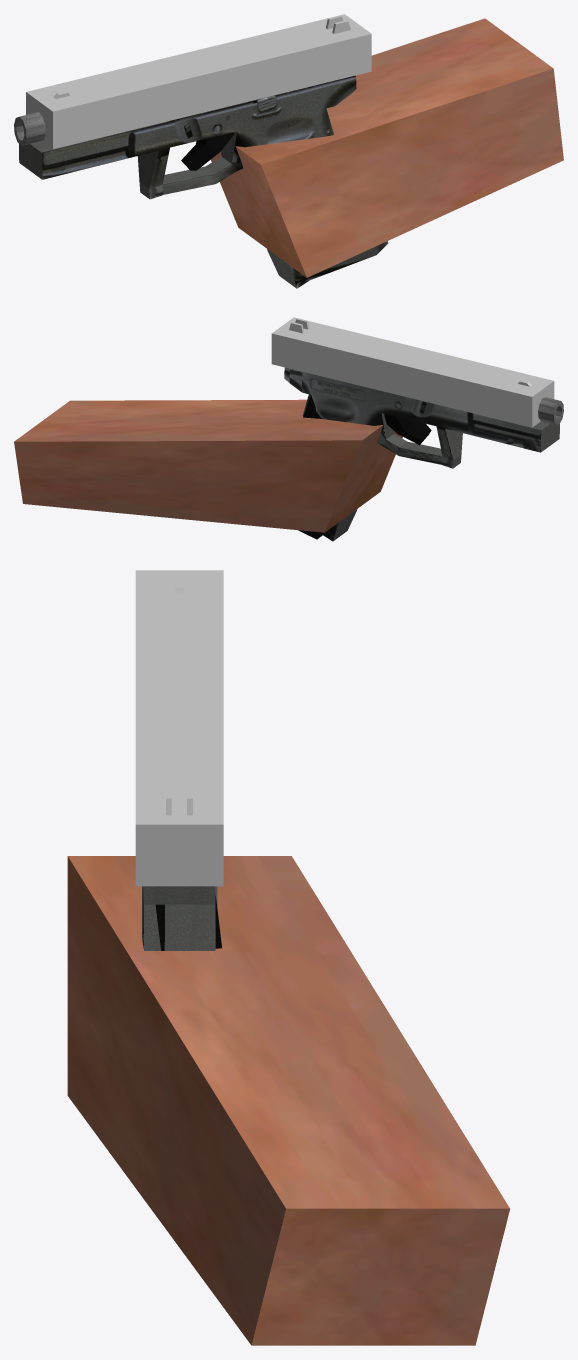
File: pistol_000039.obj
3 renders of one model, top to bottom at view 1: azimuth 30°, elevation 25°; view 2: azimuth 150°, elevation 25°; view 3: azimuth 270°, elevation 25°, orthographic. The views are drawn at different scales.
Visible parts, largest first — view 1: Cube, Cube.001, Cube.003; view 2: Cube, Cube.001, Cube.003, Cube.002; view 3: Cube, Cube.001.
Boxes of the visible parts, x1=… form: Cube: x1=14, y1=18, x2=563, y2=288; Cube.001: x1=26, y1=14, x2=371, y2=149; Cube.003: x1=181, y1=132, x2=233, y2=170; Cube: x1=14, y1=367, x2=563, y2=541; Cube.001: x1=271, y1=317, x2=554, y2=427; Cube.003: x1=384, y1=414, x2=431, y2=444; Cube.002: x1=298, y1=394, x2=323, y2=539; Cube: x1=67, y1=856, x2=509, y2=1345; Cube.001: x1=135, y1=570, x2=223, y2=886.
Bounding box in the file's own units: 1.74 × 0.735 × 0.7214.
